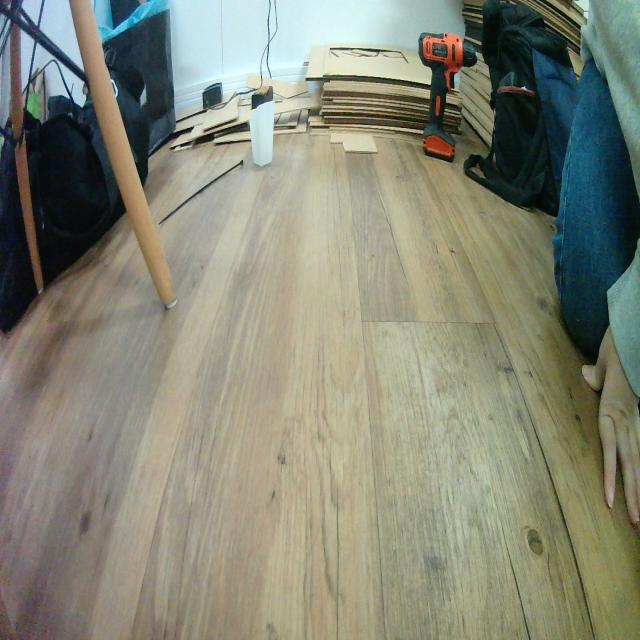erva_daninha: (250, 100, 274, 168)
